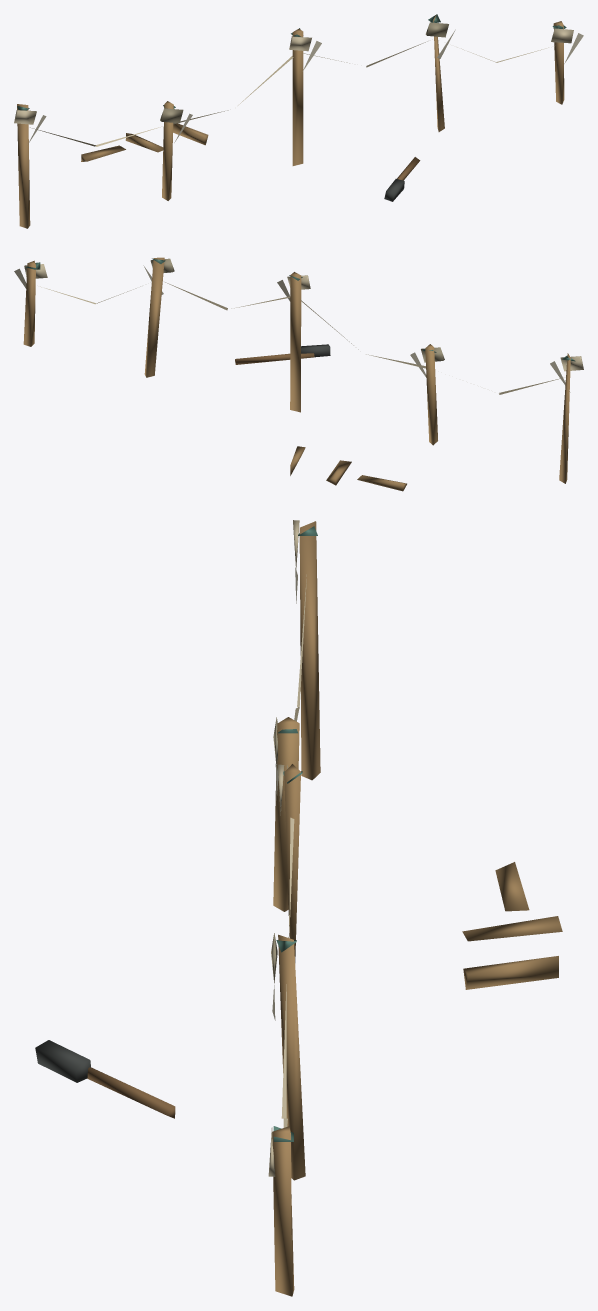
Rendered from survey_stakes_a_lod2.glb.
3 renders of one model, top to bottom at view 1: azimuth 30°, elevation 25°; view 2: azimuth 150°, elevation 25°; view 3: azimuth 270°, elevation 25°, orthographic. The views are drawn at different scales.
Parts seen in each view (by area): view 1: Surface.001; view 2: Surface.001; view 3: Surface.001.
Boxes of the visible parts, left/top/right/bottom form: Surface.001: left=14, top=14, right=583, bottom=228; Surface.001: left=14, top=257, right=583, bottom=491; Surface.001: left=35, top=520, right=562, bottom=1296.
Size of the model in its own units: 3.34 by 0.7606 by 1.35.
